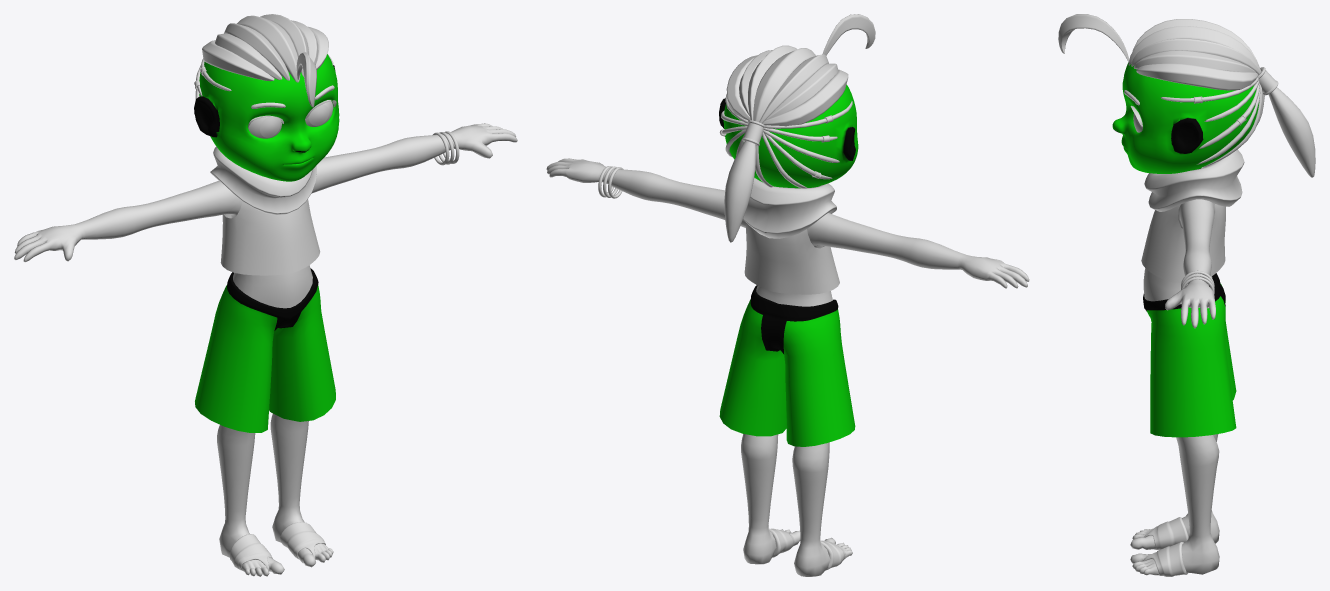
Rendered from playerCharacterUVTRANSFER.fbx.
3 renders of one model, left to right at view 1: azimuth 30°, elevation 25°; view 2: azimuth 150°, elevation 25°; view 3: azimuth 270°, elevation 25°, orthographic. The views are drawn at different scales.
Visible parts, largest first — view 1: pants01, armsTorso01, head01, legs01, hairTop01, shirt01, scarf01, footWraps01, hairTwigBent01; view 2: pants01, armsTorso01, legs01, hairTop01, head01, shirt01, scarf01, braids01, ponytail01, hairTwigBent01, footWraps01; view 3: pants01, head01, hairTop01, legs01, armsTorso01, scarf01, shirt01, ponytail01, braids01, footWraps01, hairTwigBent01, hairHolder01 (+1 smaller).
Boxes of the visible parts, x1,y1,x2,y2 form: pants01: (195,268,335,432); armsTorso01: (14,123,517,308); head01: (194,54,339,181); legs01: (217,413,333,576); hairTop01: (202,14,328,82); shirt01: (220,199,320,275); scarf01: (210,146,316,215); footWraps01: (230,522,325,571); hairTwigBent01: (296,52,316,107); pants01: (719,285,855,446); armsTorso01: (546,158,1029,306); legs01: (741,434,852,576); hairTop01: (726,45,848,126); head01: (719,84,858,188); shirt01: (744,223,839,294); scarf01: (743,178,836,238); braids01: (721,94,852,188); ponytail01: (724,141,755,242); hairTwigBent01: (822,14,875,55); footWraps01: (768,528,845,570); pants01: (1143,273,1236,437); head01: (1112,62,1259,173); hairTop01: (1128,19,1261,90); legs01: (1130,434,1219,575); armsTorso01: (1143,167,1215,328); scarf01: (1144,149,1244,211); shirt01: (1141,204,1225,282); ponytail01: (1268,87,1315,177); braids01: (1161,77,1264,167); footWraps01: (1143,517,1188,576); hairTwigBent01: (1058,14,1129,62); hairHolder01: (1257,67,1278,95).
Bounding box in the file's own units: 137 × 140 × 60.65.
